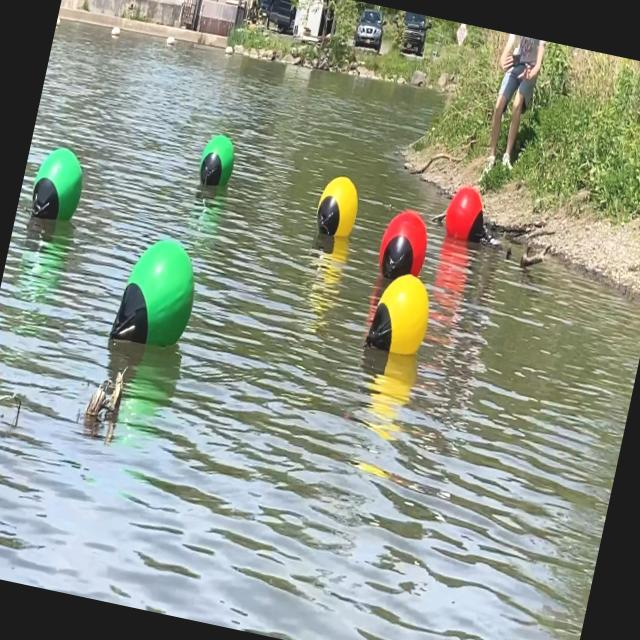buoy: (110, 230, 208, 355), (361, 265, 437, 361), (27, 142, 91, 226), (374, 203, 434, 290), (440, 182, 500, 250), (312, 172, 362, 240), (195, 132, 238, 192)
